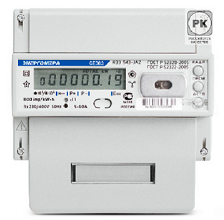counter: (9, 3, 215, 217)
counter_screen: (33, 67, 126, 90)
